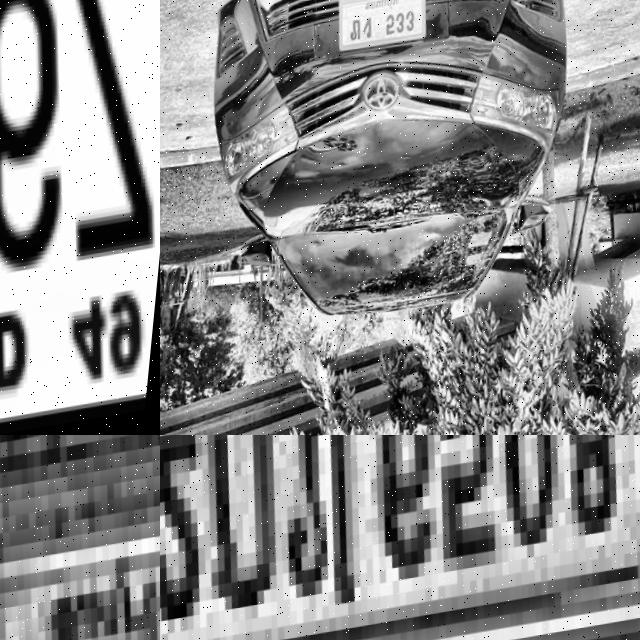license-plate: (160, 435, 640, 640), (0, 0, 160, 435), (0, 454, 160, 640), (333, 0, 437, 60)
